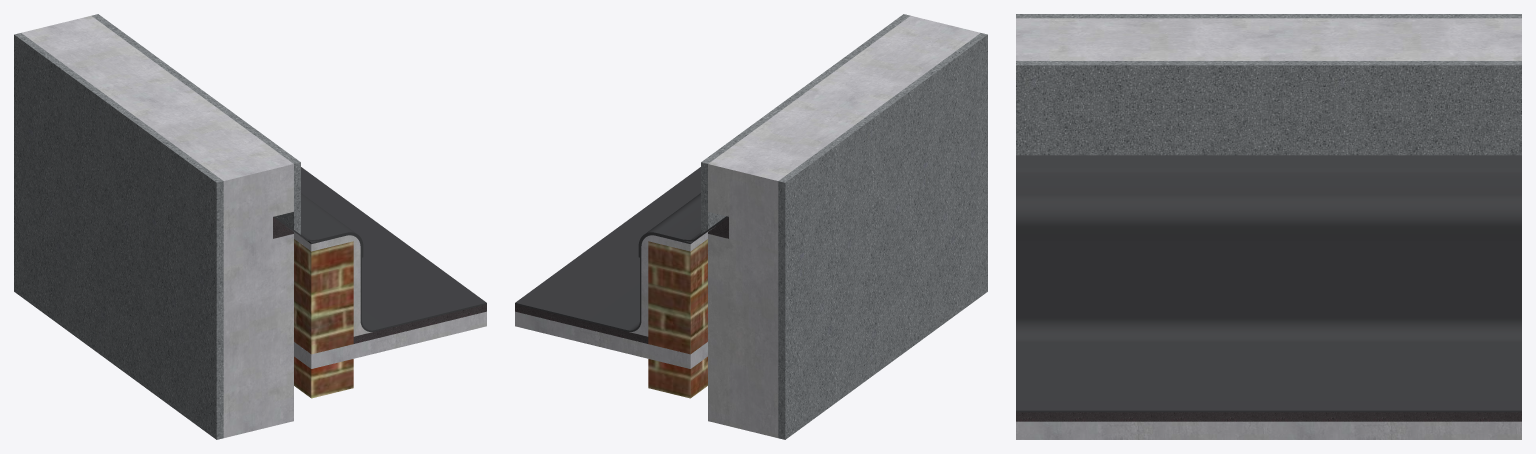
File: high-low-roof-joint-01.glb
3 renders of one model, left to right at view 1: azimuth 30°, elevation 25°; view 2: azimuth 150°, elevation 25°; view 3: azimuth 270°, elevation 25°, orthographic. The views are drawn at different scales.
Parts seen in each view (by area): view 1: 抹灰, 高墙, 防水层, 砖砌矮墙, 低屋面结构板, 附加卷材, 砂浆圆弧基层, 低屋面找层; view 2: 抹灰, 高墙, 防水层, 砖砌矮墙, 低屋面结构板, 附加卷材, 砂浆圆弧基层, 低屋面找层; view 3: 防水层, 抹灰, 附加卷材, 高墙, 低屋面结构板, 低屋面找层.
Boxes of the visible parts, left/top/right/bottom form: 抹灰: left=14, top=14, right=300, bottom=439; 高墙: left=21, top=16, right=293, bottom=437; 防水层: left=301, top=167, right=486, bottom=331; 砖砌矮墙: left=294, top=239, right=353, bottom=398; 低屋面结构板: left=294, top=311, right=486, bottom=368; 附加卷材: left=273, top=193, right=363, bottom=257; 砂浆圆弧基层: left=290, top=229, right=372, bottom=336; 低屋面找层: left=353, top=304, right=486, bottom=343; 抹灰: left=701, top=14, right=987, bottom=439; 高墙: left=708, top=16, right=980, bottom=437; 防水层: left=515, top=167, right=700, bottom=331; 砖砌矮墙: left=648, top=239, right=707, bottom=398; 低屋面结构板: left=515, top=311, right=707, bottom=368; 附加卷材: left=638, top=193, right=728, bottom=257; 砂浆圆弧基层: left=629, top=229, right=711, bottom=336; 低屋面找层: left=515, top=304, right=648, bottom=343; 防水层: left=1016, top=241, right=1521, bottom=412; 抹灰: left=1016, top=14, right=1521, bottom=155; 附加卷材: left=1016, top=155, right=1521, bottom=240; 高墙: left=1016, top=18, right=1521, bottom=60; 低屋面结构板: left=1016, top=421, right=1521, bottom=439; 低屋面找层: left=1016, top=412, right=1521, bottom=421.
Size of the model in its own units: 0.7698 by 0.7 by 1.
9 materials, 7 textured.
